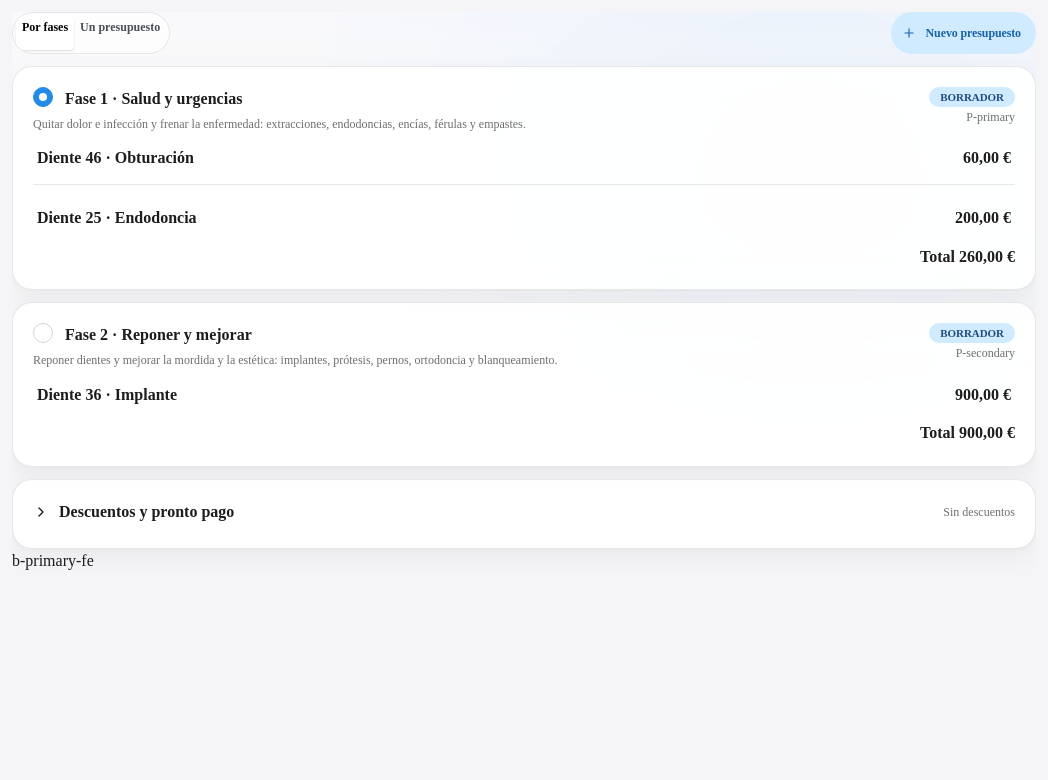
it: switching from phases to one budget selects the whole-plan budget
Expected: the text "Fase 2 · Reponer y mejorar" is shown, 65,323 -> 252,348
Click the text "Un presupuesto".
click(120, 27)  # box 80,20 -> 160,34
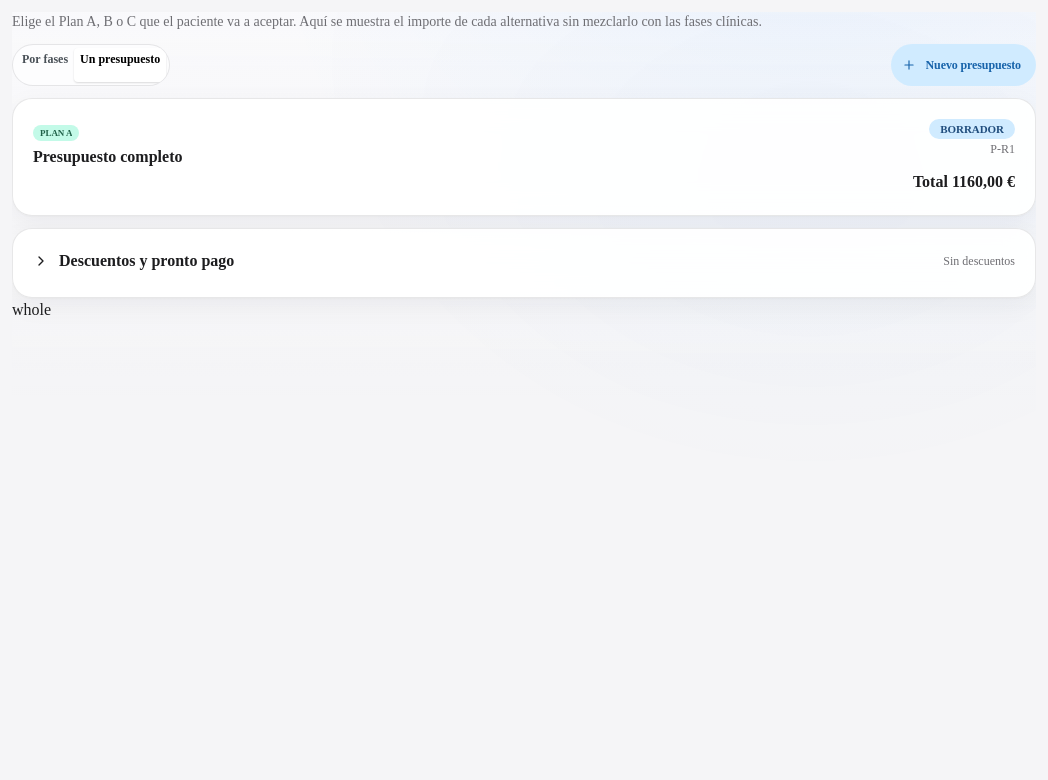
Now the text named "Seleccionado" reads "whole", box 12,301 -> 51,318
